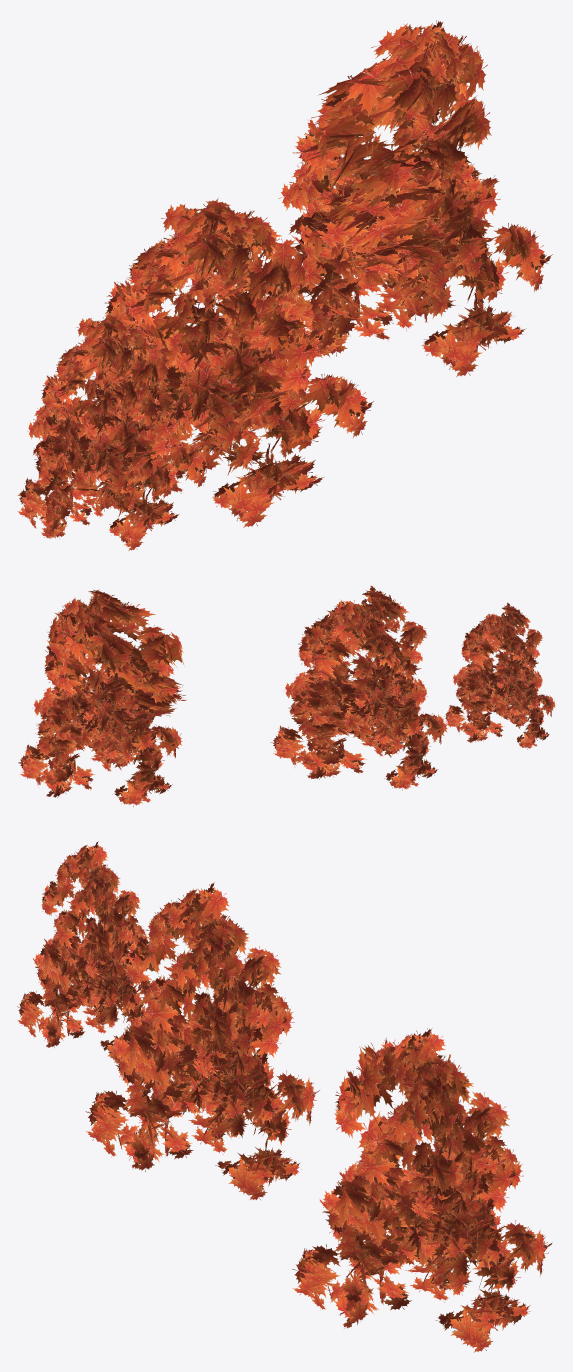
File: AutumnLeaves.obj
3 views of the same model, one above another, from view 1: azimuth 30°, elevation 25°; view 2: azimuth 150°, elevation 25°; view 3: azimuth 270°, elevation 25° (orthographic). The views are drawn at different scales.
Parts seen in each view (by area): view 1: Leabes; view 2: Leabes; view 3: Leabes.
Boxes of the visible parts, box(x1,y1,x2,y2) form: Leabes: box(17, 20, 552, 550); Leabes: box(18, 585, 555, 806); Leabes: box(17, 841, 552, 1352).
Size of the model in its own units: 0.9776 by 0.4633 by 0.7524.
